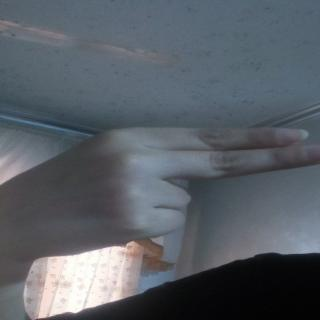AYN: (0, 115, 320, 254)
